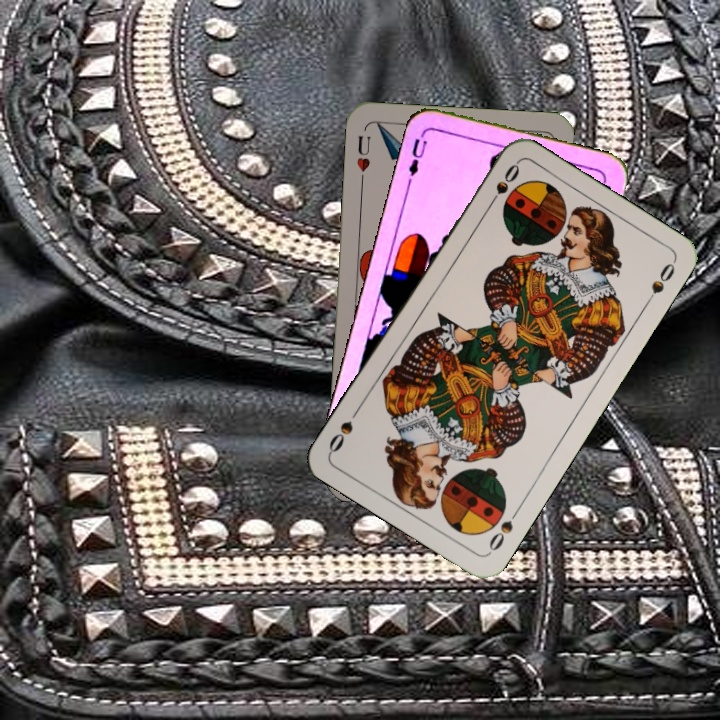EU: (404, 128, 430, 179)
HU: (352, 131, 373, 185)
SO: (483, 159, 523, 212), (484, 504, 523, 556)
